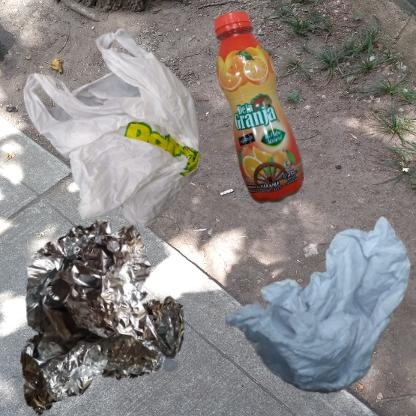aluminio: (10, 213, 193, 416)
bolsa: (10, 10, 268, 290)
botella: (213, 10, 305, 206)
papel: (213, 213, 416, 409)
